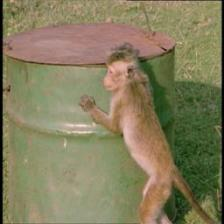monkey: (94, 44, 142, 100)
